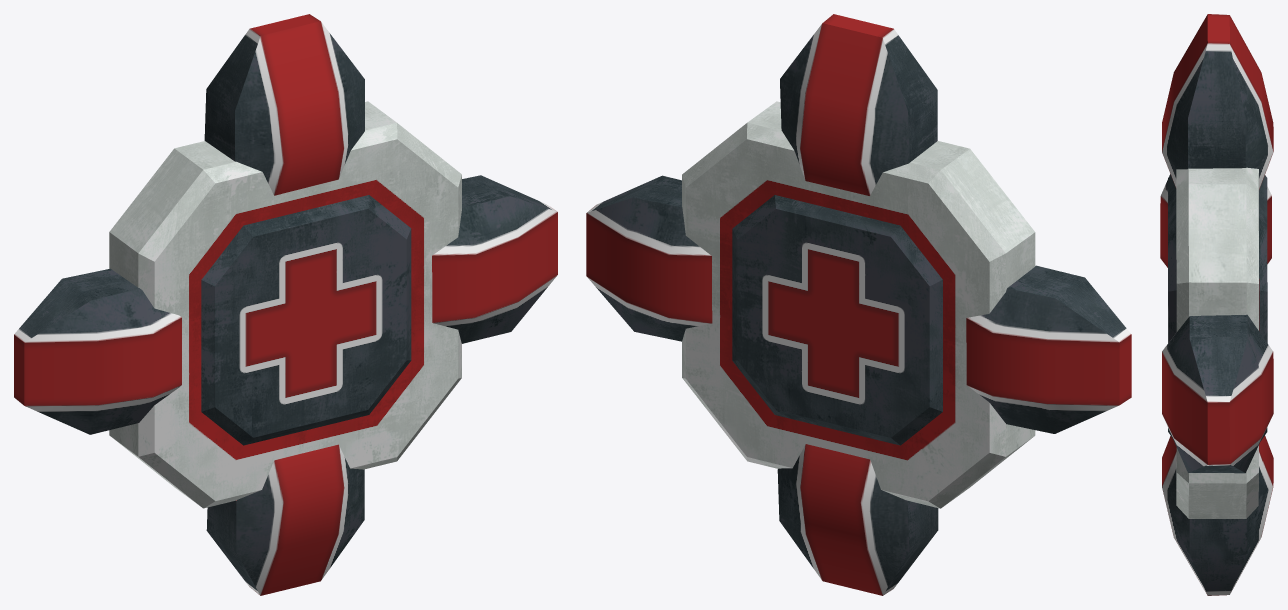
File: healthpackAnim00.fbx
3 renders of one model, left to right at view 1: azimuth 30°, elevation 25°; view 2: azimuth 150°, elevation 25°; view 3: azimuth 270°, elevation 25°, orthographic.
Parts seen in each view (by area): view 1: healthpack; view 2: healthpack; view 3: healthpack.
Part boxes in pixels (x1=…): healthpack: x1=14, y1=14, x2=557, y2=595; healthpack: x1=586, y1=14, x2=1131, y2=595; healthpack: x1=1160, y1=14, x2=1273, y2=595.
Bounding box in the file's own units: 116 × 116 × 21.5.
